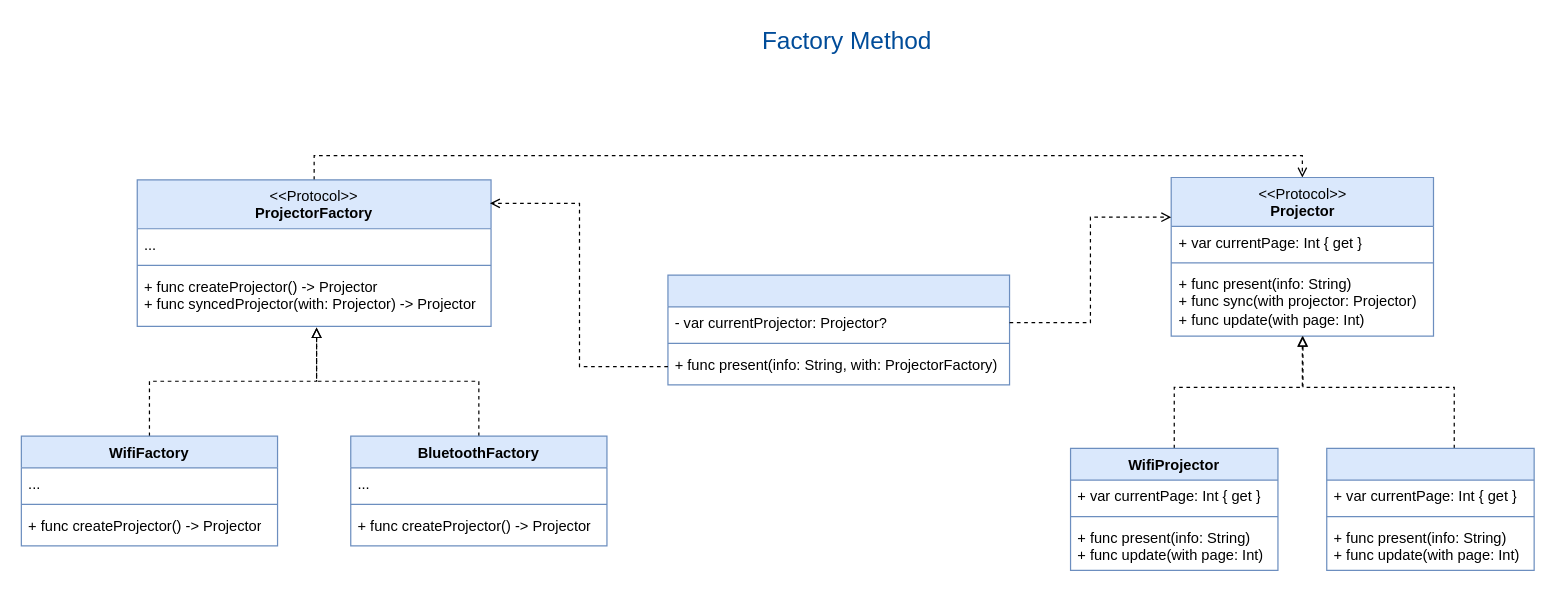
This 1556x594 diagram has some shape labels left out. Each missing label, with the box of its shape:
BluetoothProjector: (1326, 447, 1534, 570)
Client: (667, 274, 1010, 385)
